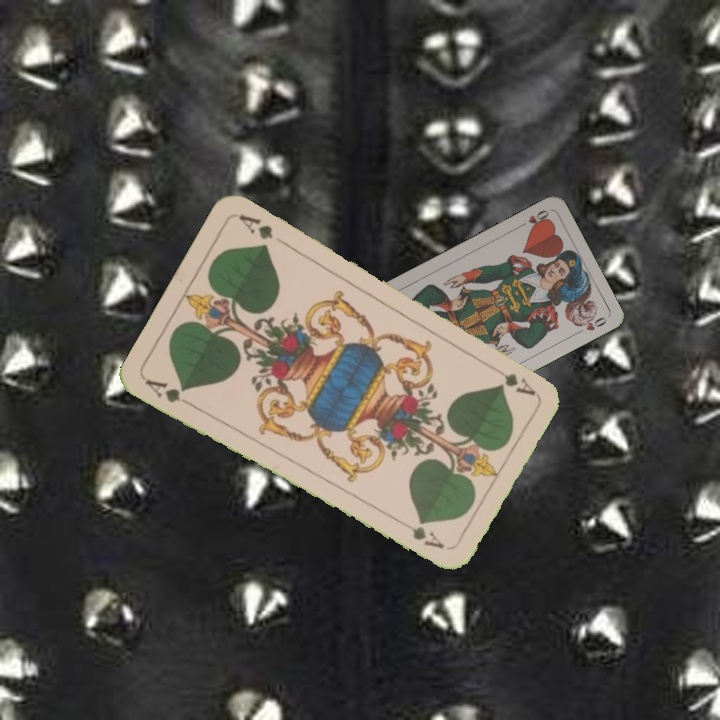GA: (484, 360, 538, 398), (141, 375, 196, 409)
HO: (514, 206, 552, 230)
